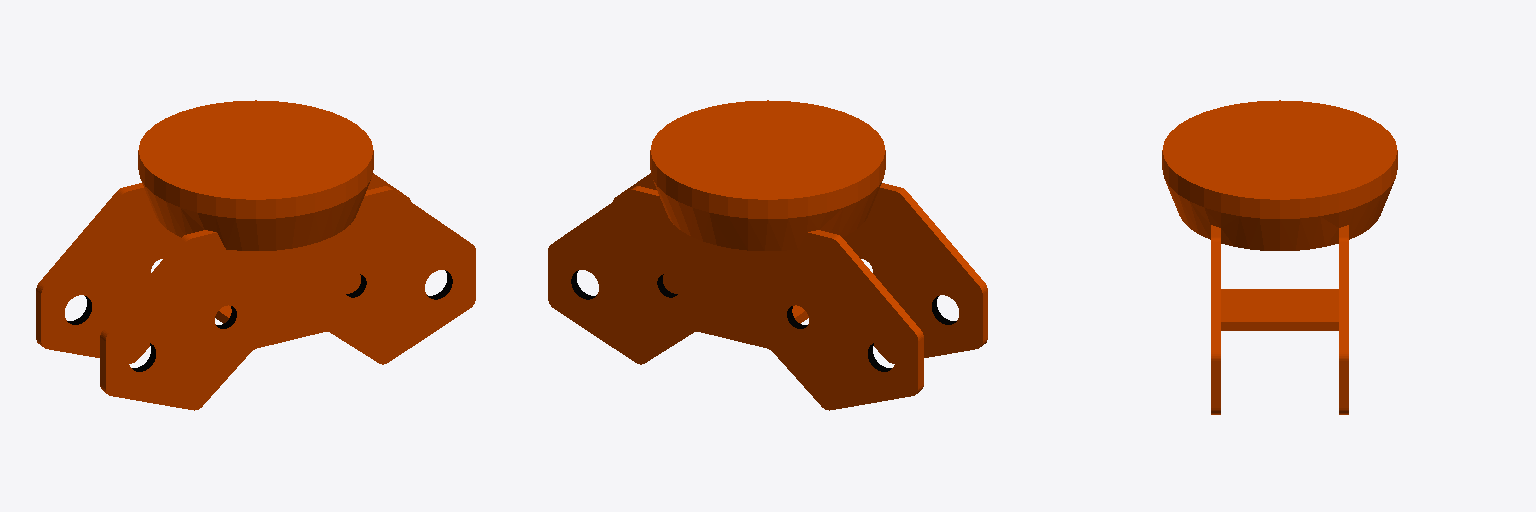
The model's file is arm_5.obj.
3 views of the same model, side by side, from view 1: azimuth 30°, elevation 25°; view 2: azimuth 150°, elevation 25°; view 3: azimuth 270°, elevation 25° (orthographic).
Parts seen in each view (by area): view 1: arm_5.001; view 2: arm_5.001; view 3: arm_5.001.
Boxes of the visible parts, x1,y1,x2,y2 form: arm_5.001: [36, 100, 475, 410]; arm_5.001: [548, 100, 987, 410]; arm_5.001: [1162, 100, 1397, 414].
Bounding box in the file's own units: 480 × 262 × 264.